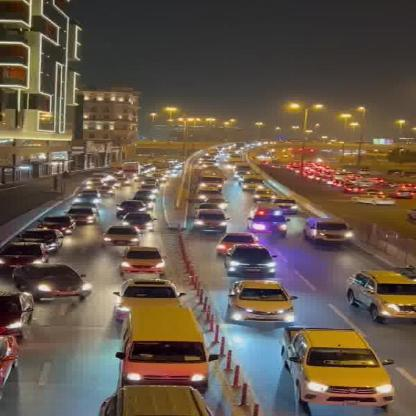priority: (244, 202, 290, 238)
